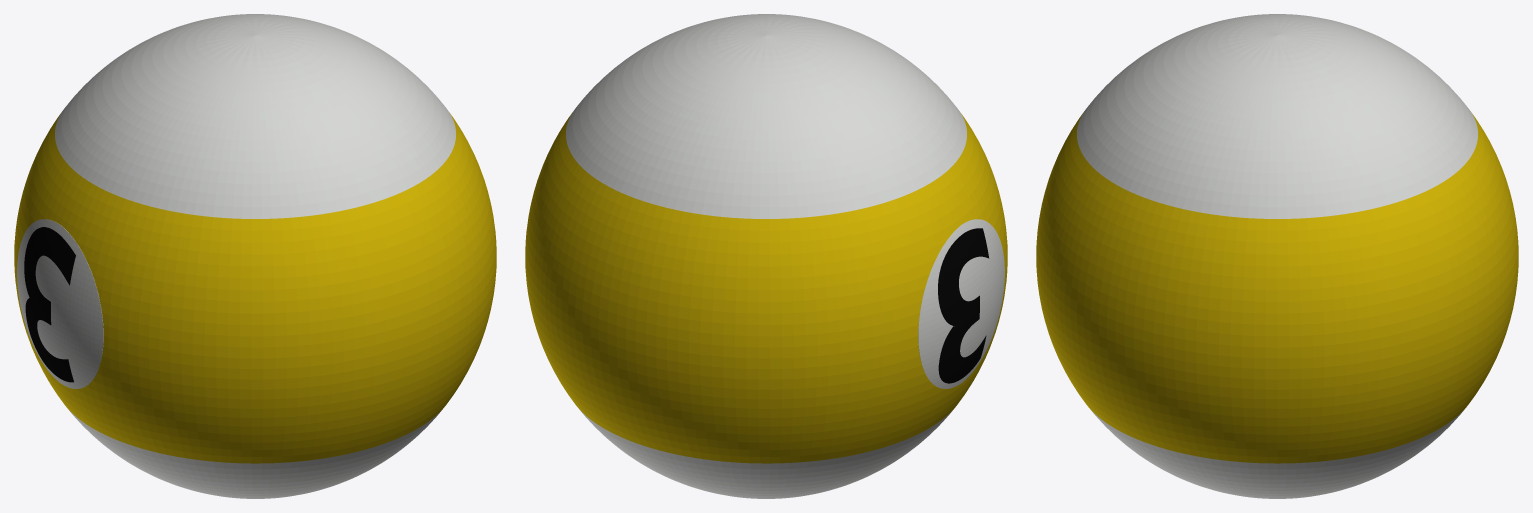
Rendered from Ball#3.fbx.
3 views of the same model, side by side, from view 1: azimuth 30°, elevation 25°; view 2: azimuth 150°, elevation 25°; view 3: azimuth 270°, elevation 25° (orthographic).
Parts seen in each view (by area): view 1: Sphere, Sphere.001, Text; view 2: Sphere, Sphere.001, Text; view 3: Sphere.
Part boxes in pixels (box(x1,y1,x2,y2)): Sphere: box(14, 14, 496, 498); Sphere.001: box(17, 219, 103, 388); Text: box(24, 227, 75, 382); Sphere: box(525, 14, 1007, 498); Sphere.001: box(918, 219, 1004, 388); Text: box(938, 228, 989, 383); Sphere: box(1036, 14, 1518, 498).
Bounding box in the file's own units: 198 × 200 × 198.
